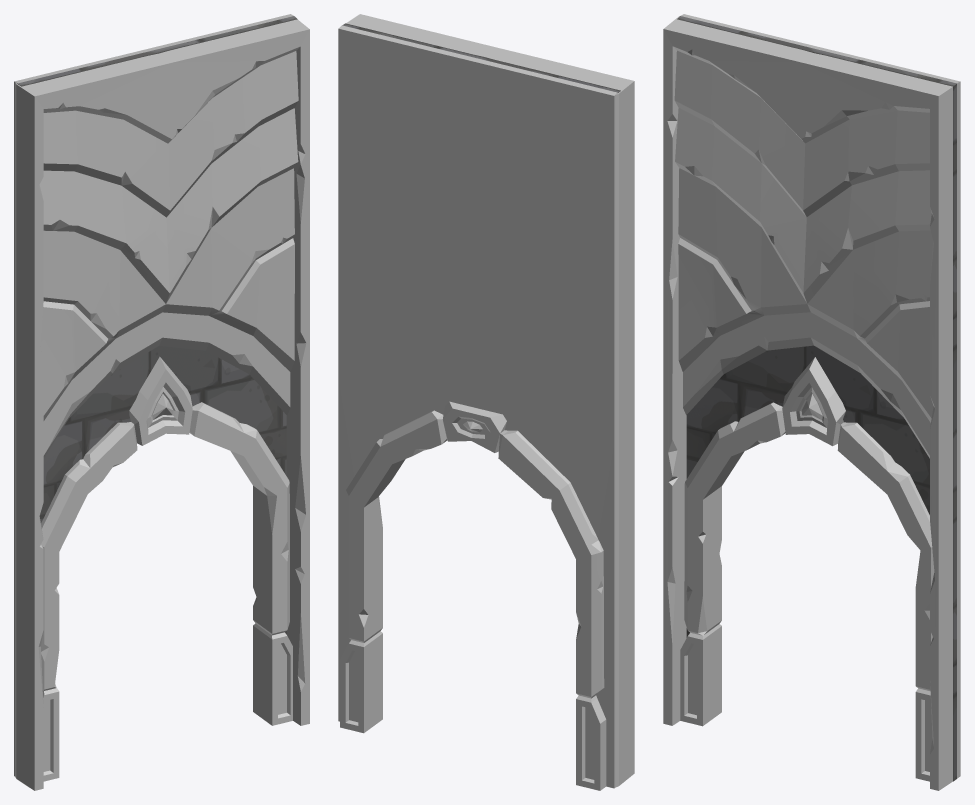
File: SM_Bld_Wall_Door_Large_02.fbx
3 renders of one model, left to right at view 1: azimuth 30°, elevation 25°; view 2: azimuth 150°, elevation 25°; view 3: azimuth 330°, elevation 25°, orthographic.
Parts seen in each view (by area): view 1: SM_Bld_Wall_Door_Large_02; view 2: SM_Bld_Wall_Door_Large_02; view 3: SM_Bld_Wall_Door_Large_02.
Part boxes in pixels (left/top/right/bottom): SM_Bld_Wall_Door_Large_02: left=14, top=14, right=309, bottom=790; SM_Bld_Wall_Door_Large_02: left=338, top=14, right=634, bottom=790; SM_Bld_Wall_Door_Large_02: left=663, top=14, right=960, bottom=790.
Bounding box in the file's own units: 502 × 1201 × 83.02.
